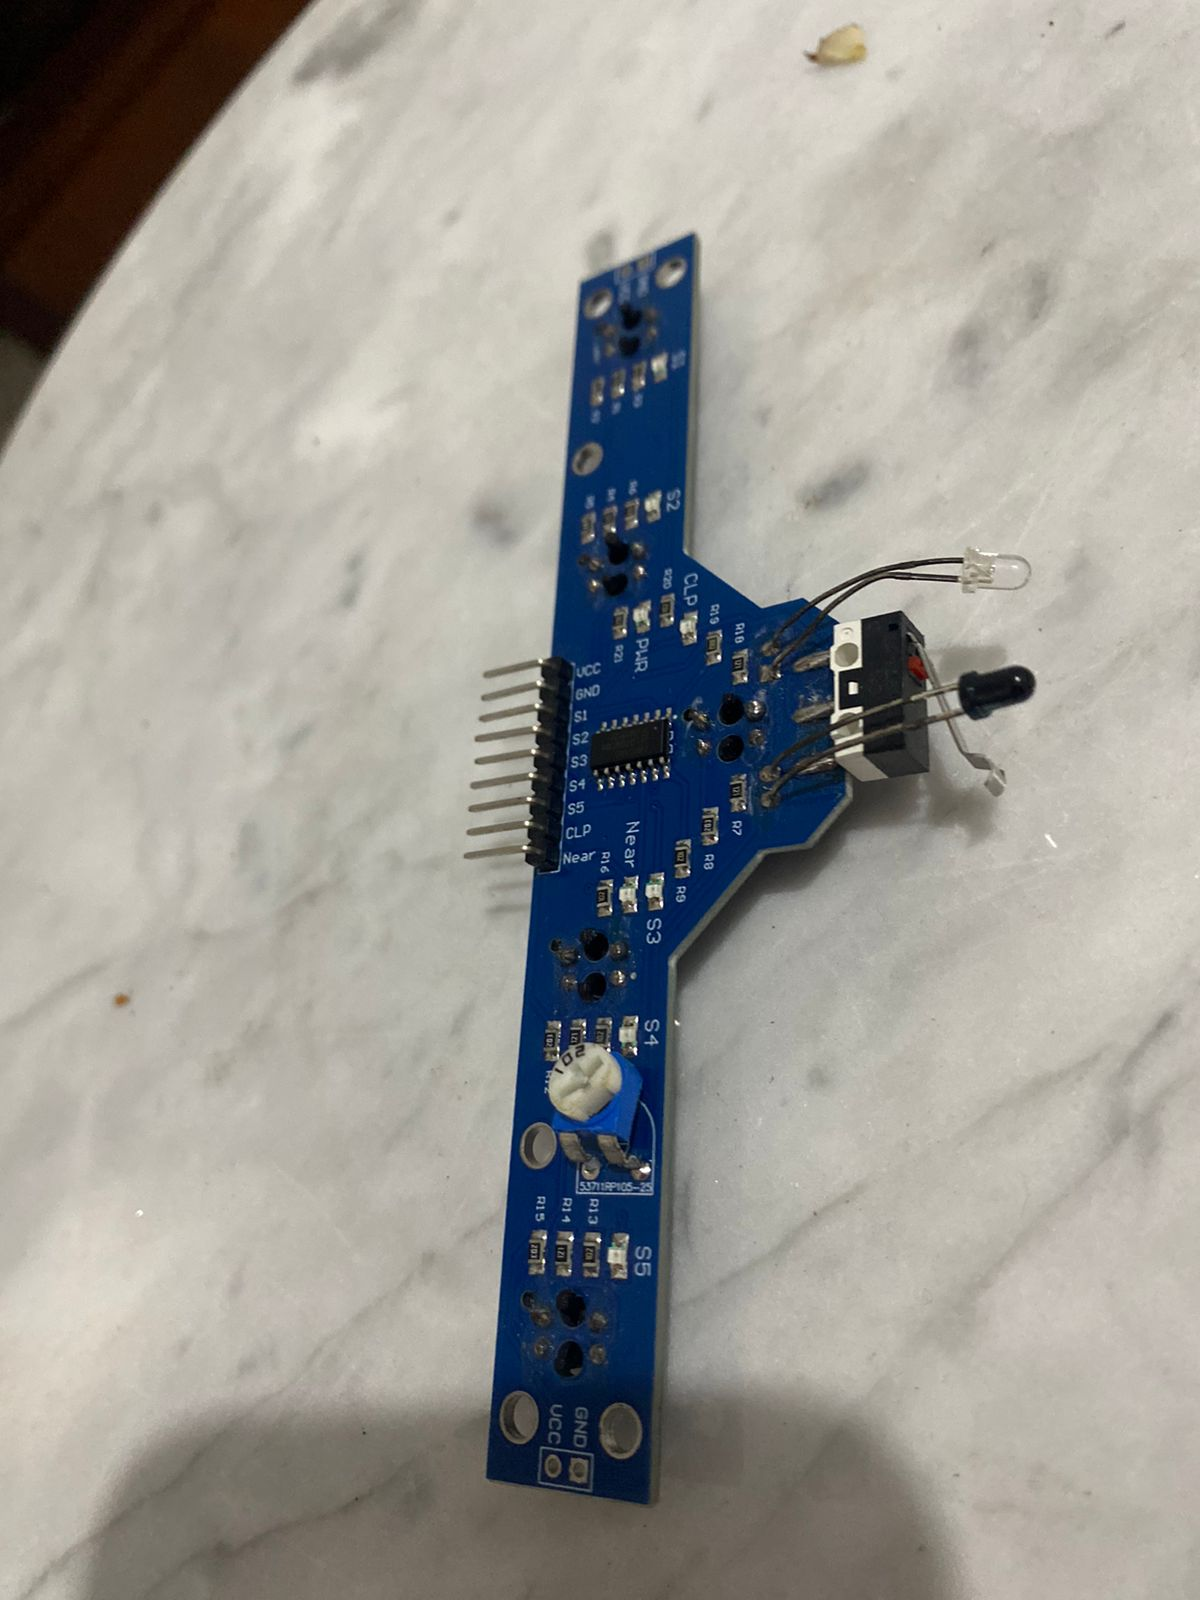Capteur-IR-5 Voies: (463, 226, 1047, 1503)
